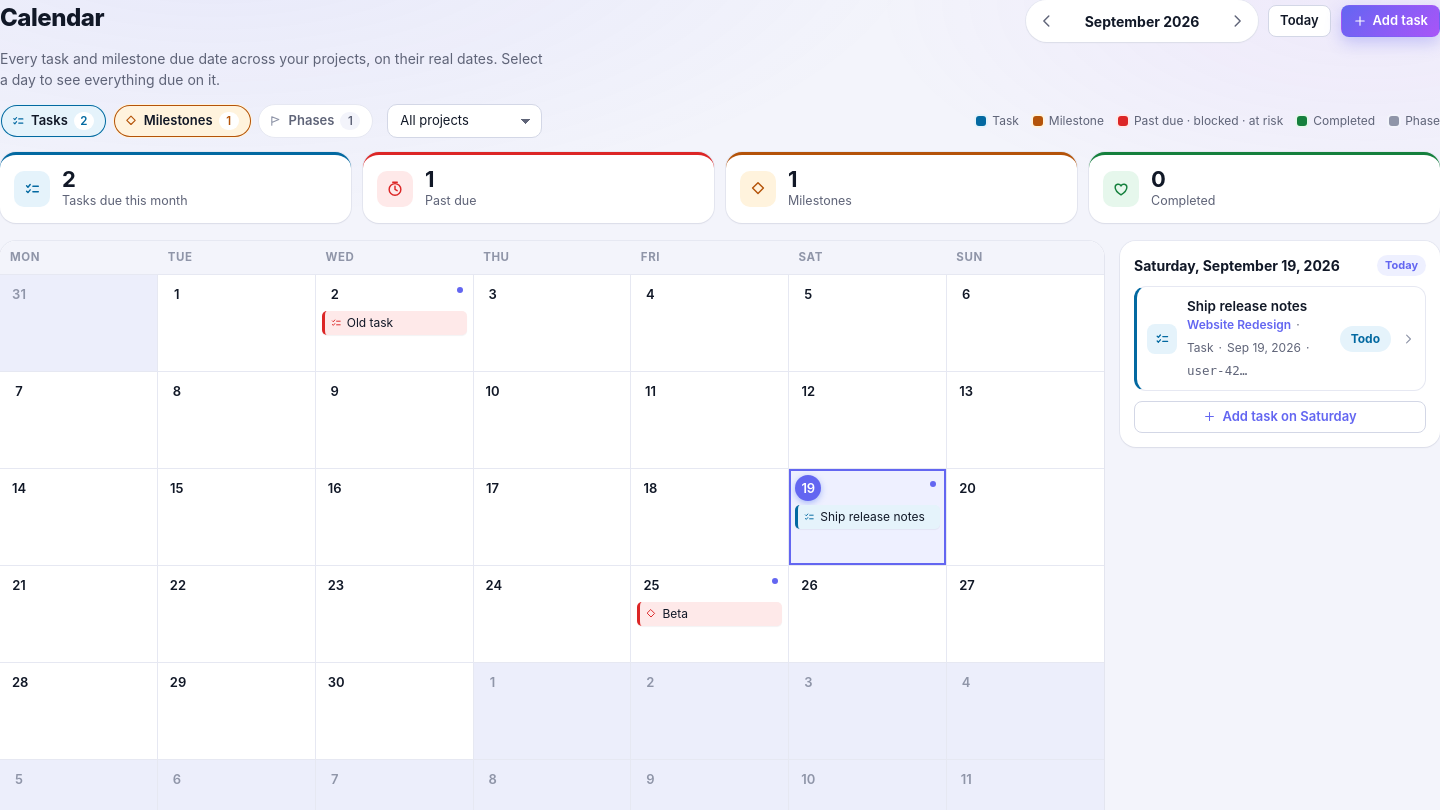
it: WorkspaceCalendarPage › selecting an event opens the detail dialog with the real entity, its project and a link to the task page
Click the button with aria-label "Task: Old task (Mobile App)" at (394, 323), box [322,311,467,335]
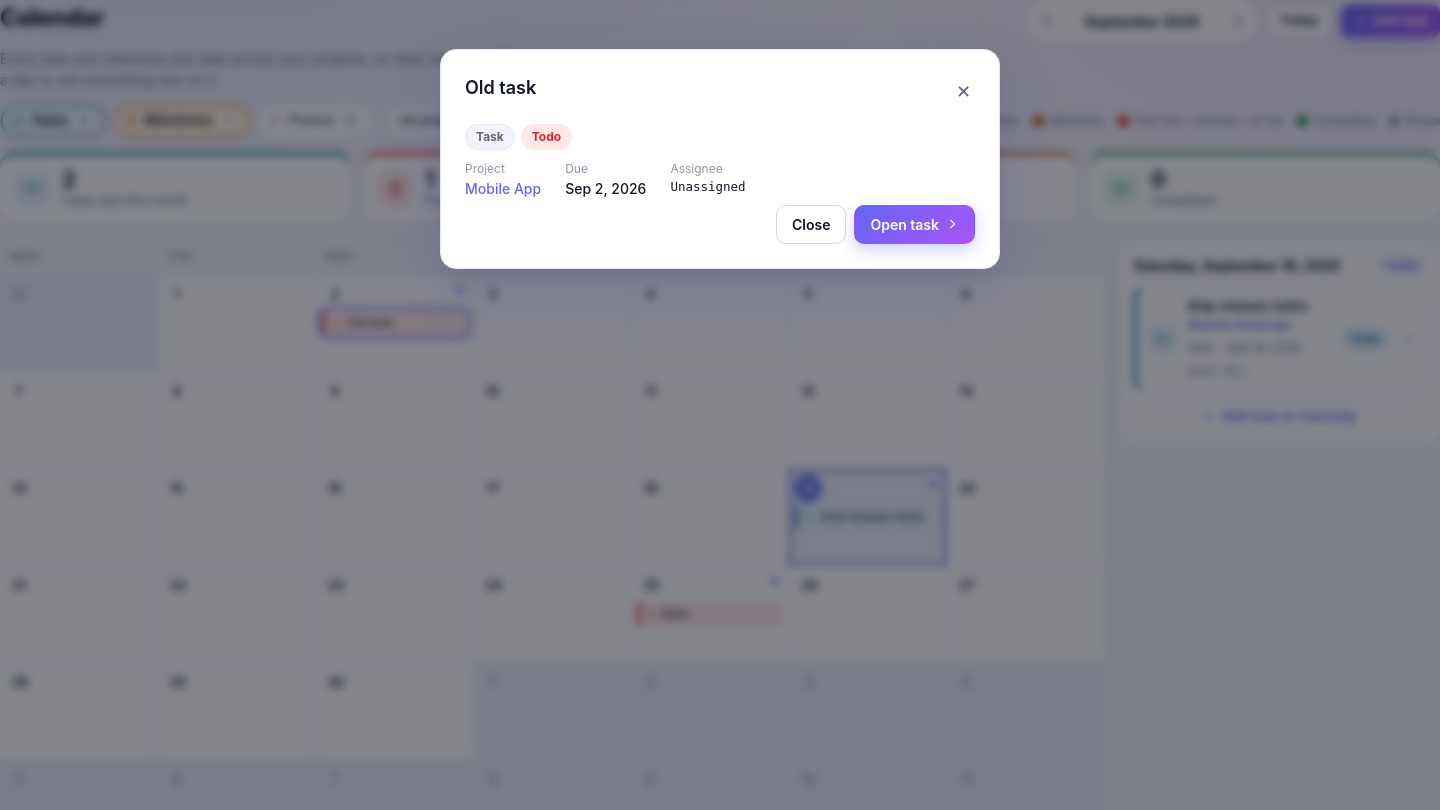
Now the dialog shows "Old task", box [465,77,536,98]
Click the button "Close" at (811, 224), box [776,205,846,244]
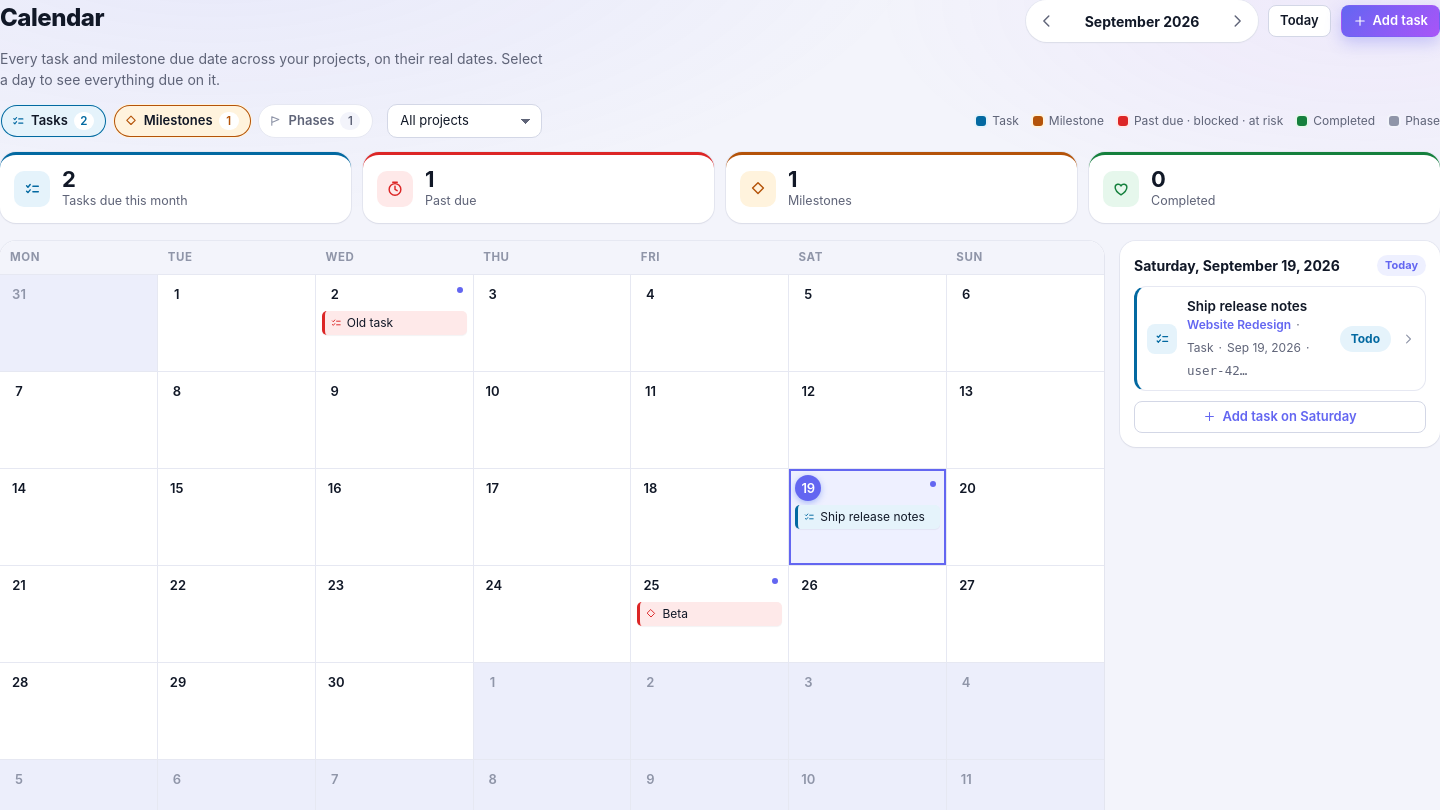
Now the dialog is gone
